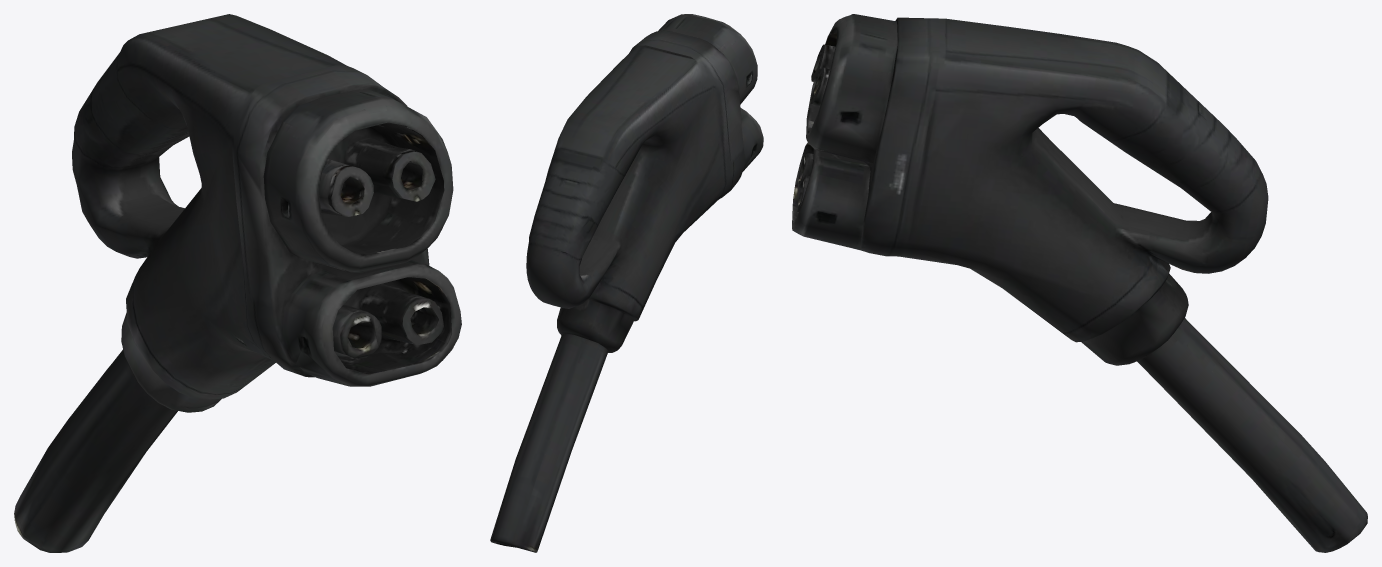
Rendered from konektor-far.glb.
3 views of the same model, side by side, from view 1: azimuth 30°, elevation 25°; view 2: azimuth 150°, elevation 25°; view 3: azimuth 270°, elevation 25° (orthographic). The views are drawn at different scales.
Visible parts, largest first — view 1: Mesh0; view 2: Mesh0; view 3: Mesh0.
Part boxes in pixels (bbox=[...]): Mesh0: bbox=[14, 14, 461, 552]; Mesh0: bbox=[490, 14, 763, 552]; Mesh0: bbox=[792, 14, 1367, 552].
Bounding box in the file's own units: 0.5068 × 1.99 × 1.99.
1 material, 1 textured.
